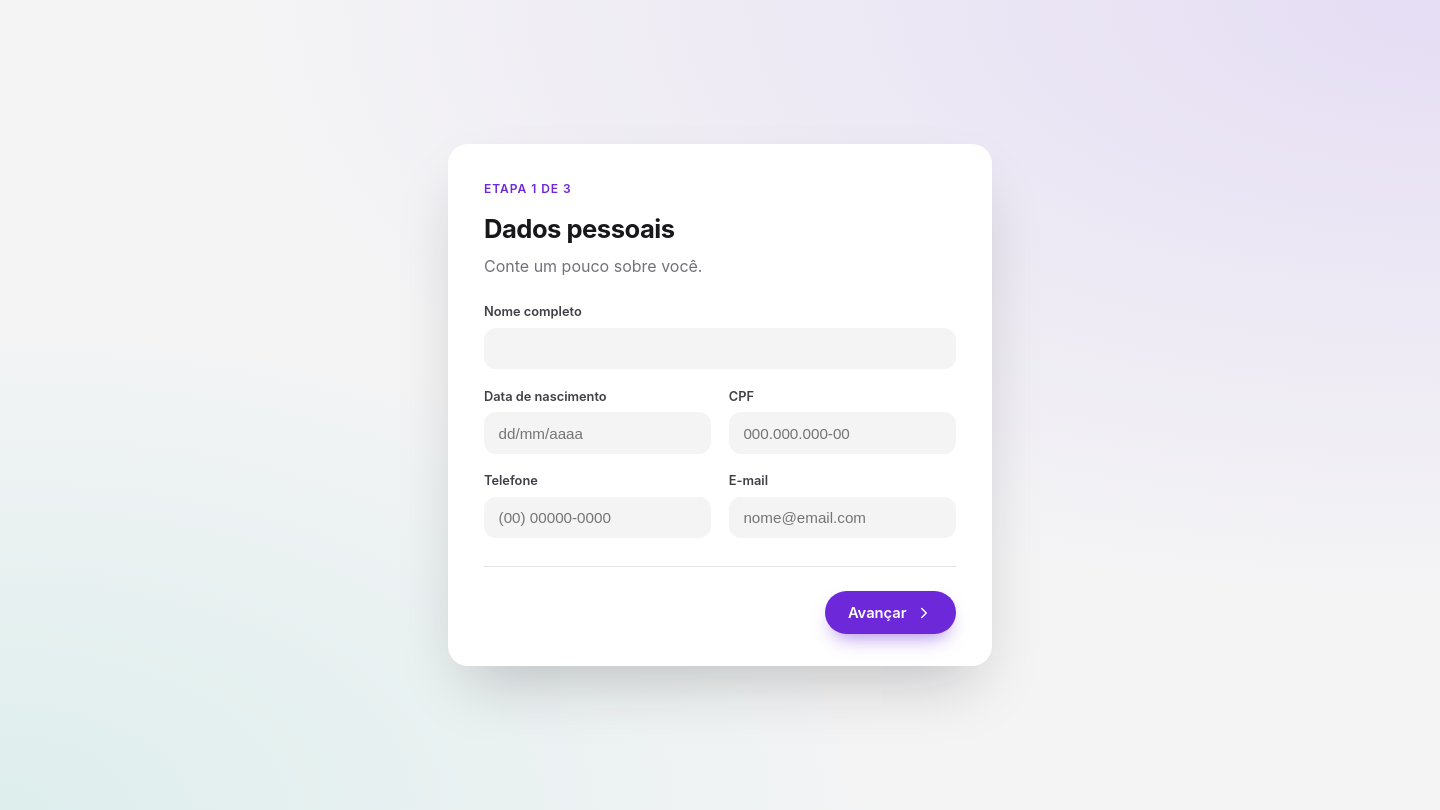
Test: Registration › bloqueia o avanço e exibe erros quando a etapa é inválida
Click the button "Avançar": (890, 612) 824,591 -> 956,634
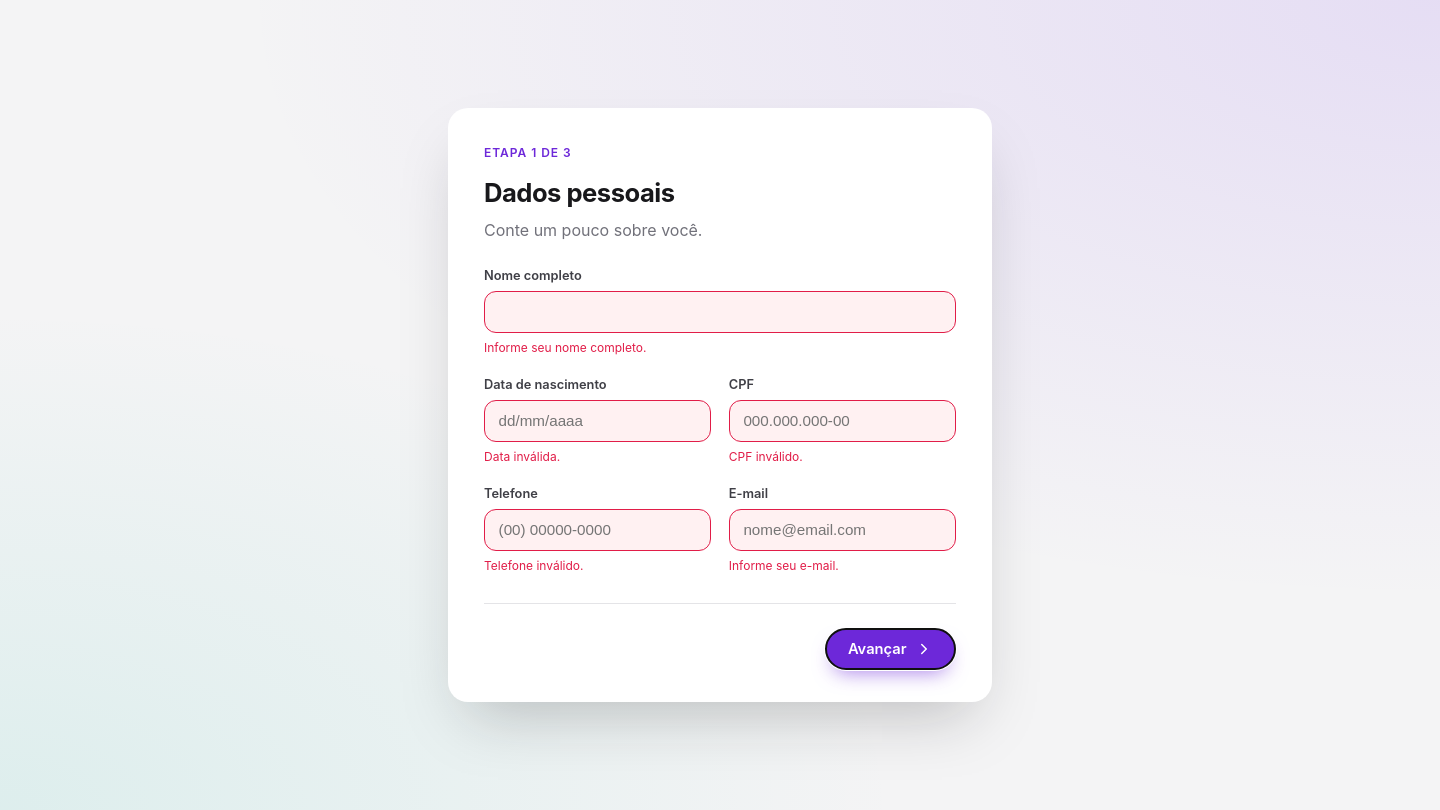
Expected: the text "Etapa 1 de 3" is shown, 484,145 -> 572,160
Result: the text "Informe seu nome completo." is shown at 484,340 -> 646,355
